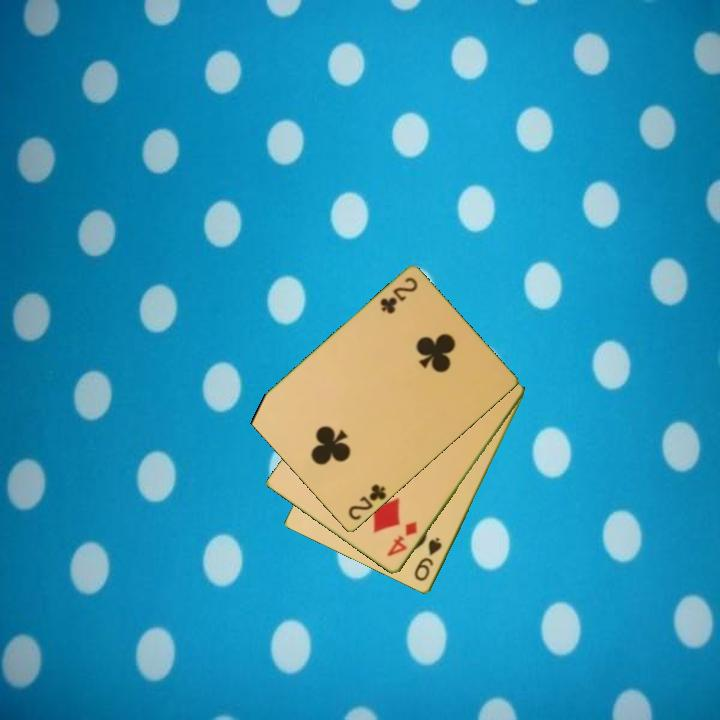2c: (345, 481, 389, 524), (377, 274, 420, 317)
4d: (383, 518, 420, 560)
9s: (411, 534, 445, 584)
